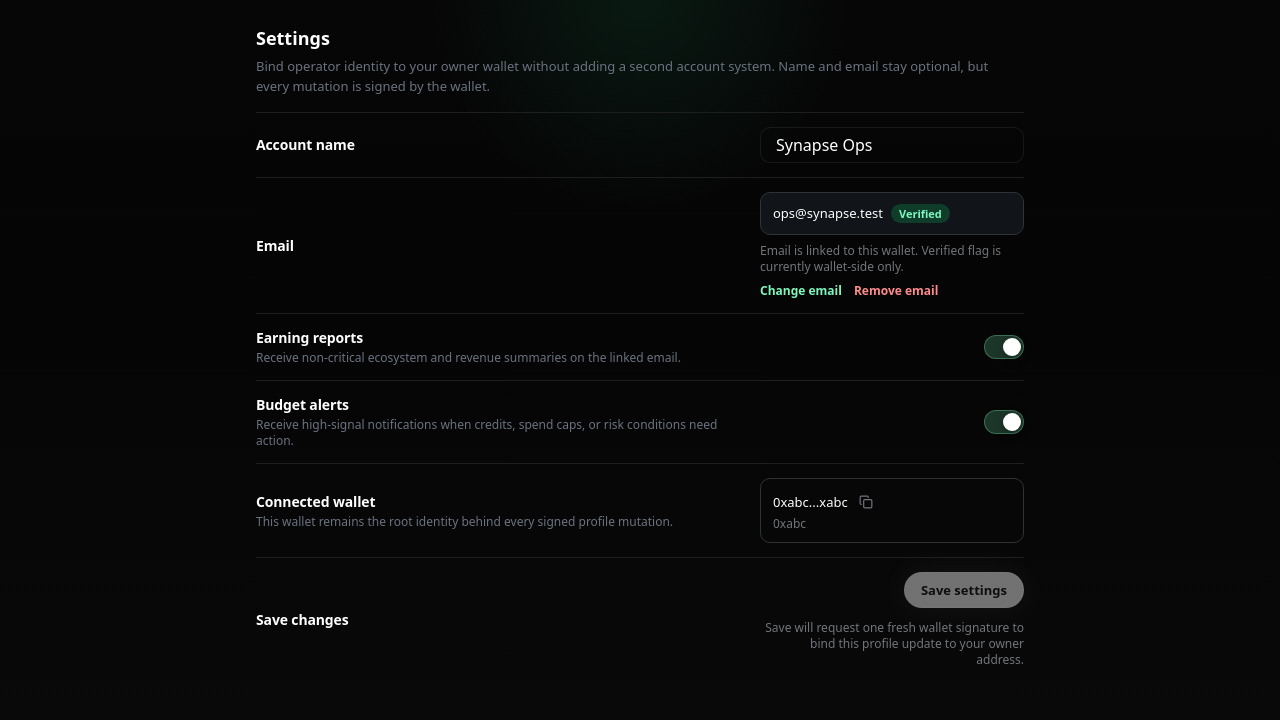
AccountSettingsPage › requests a signed challenge and updates the owner profile
Click the button "Change email" at x=801, y=291, box [760,283,842,299]
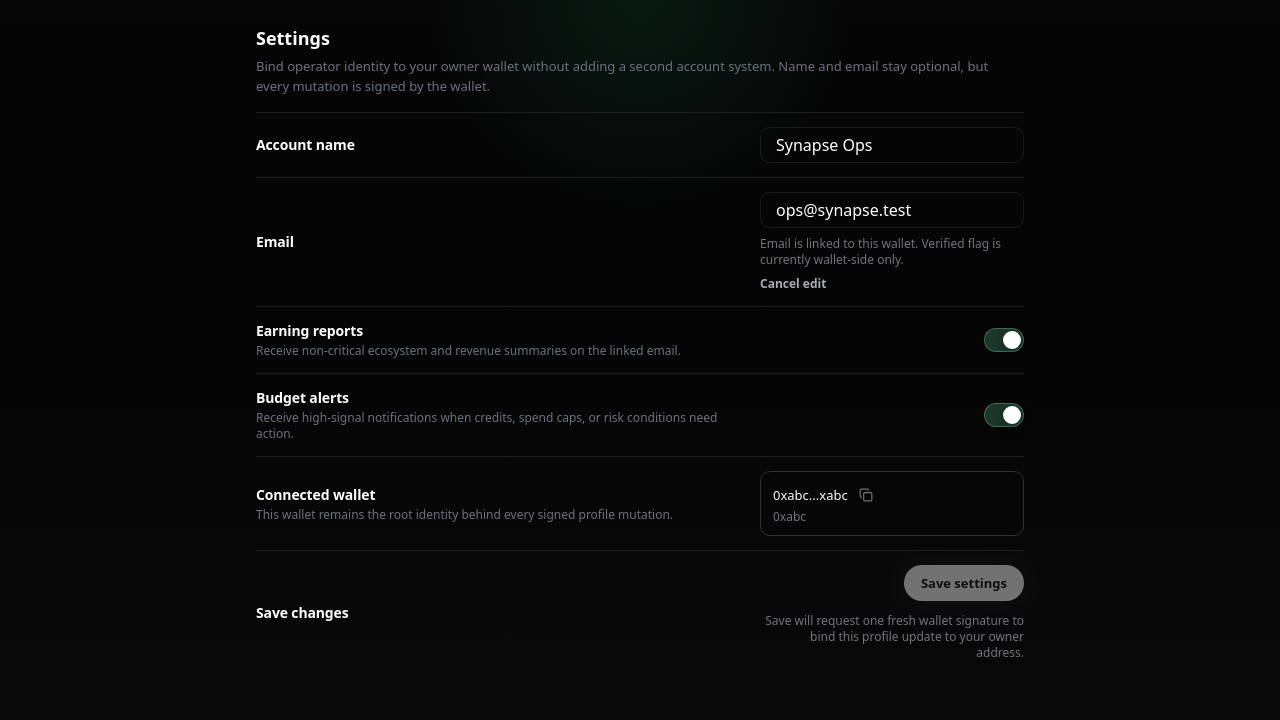
Replace the text in the field named "Account name" in the row of "Account name" with "Synapse Infra" at x=892, y=145, box [760,127,1024,163]
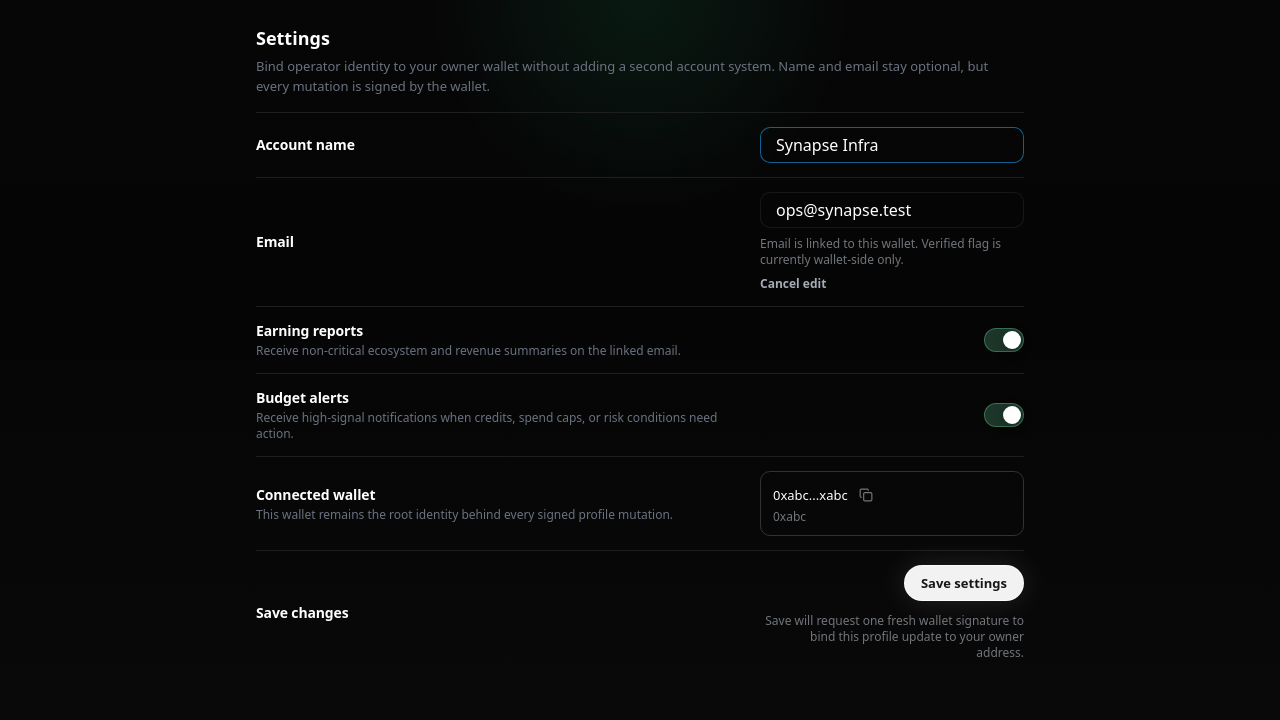
Replace the text in the 2nd field named "Email" with "infra@synapse.test" at x=892, y=210, box [760,192,1024,228]
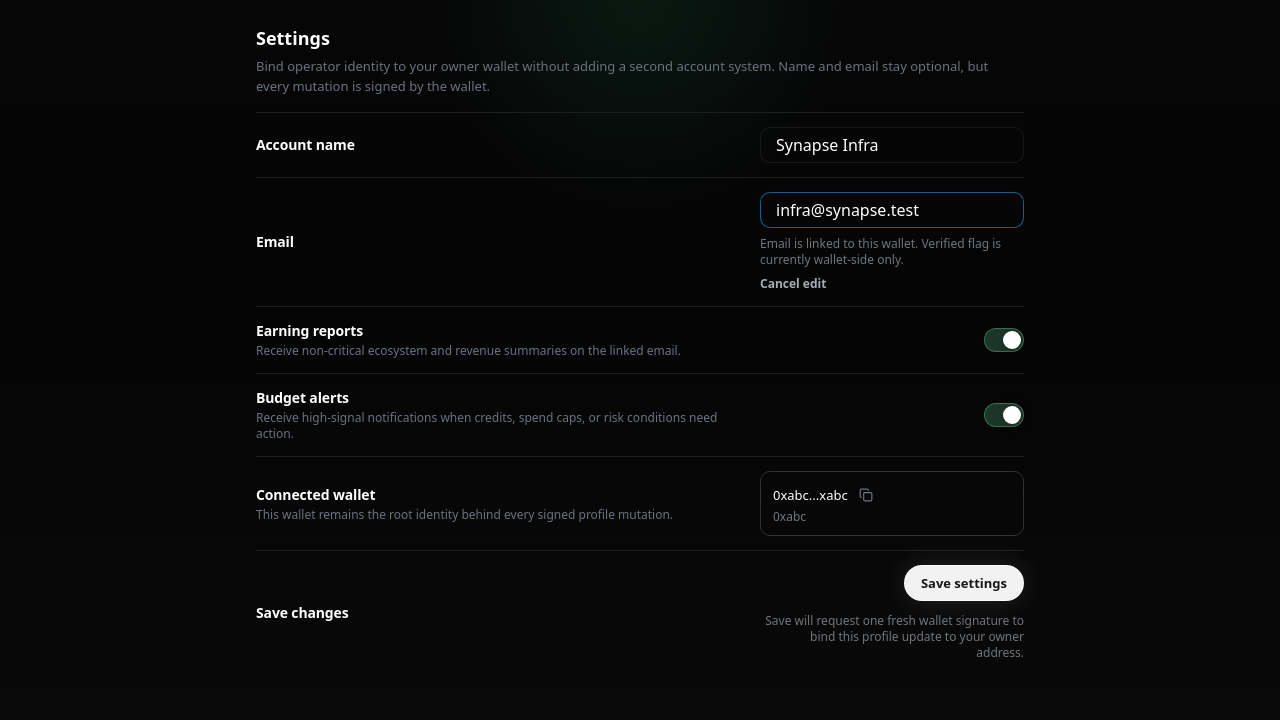
Click the checkbox named "Earning reports" at x=1004, y=340, box [984,328,1024,352]
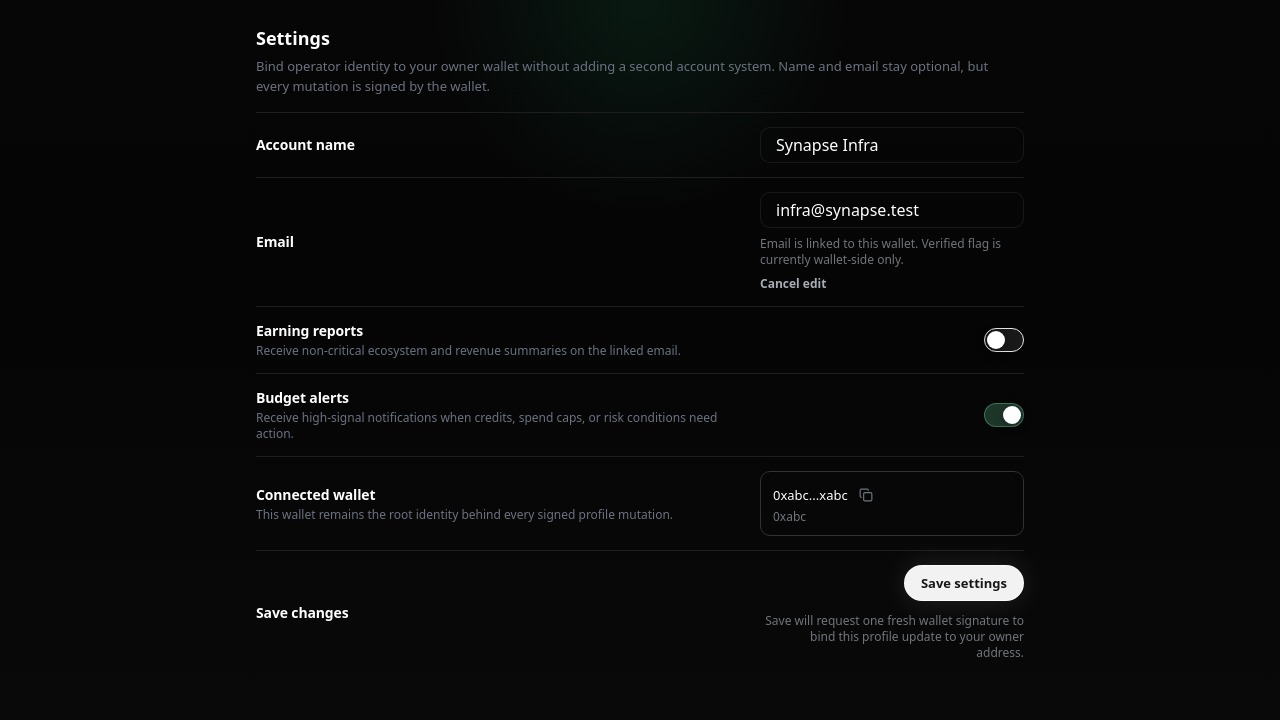
Click the button "Save settings" at x=964, y=583, box [904,565,1024,601]
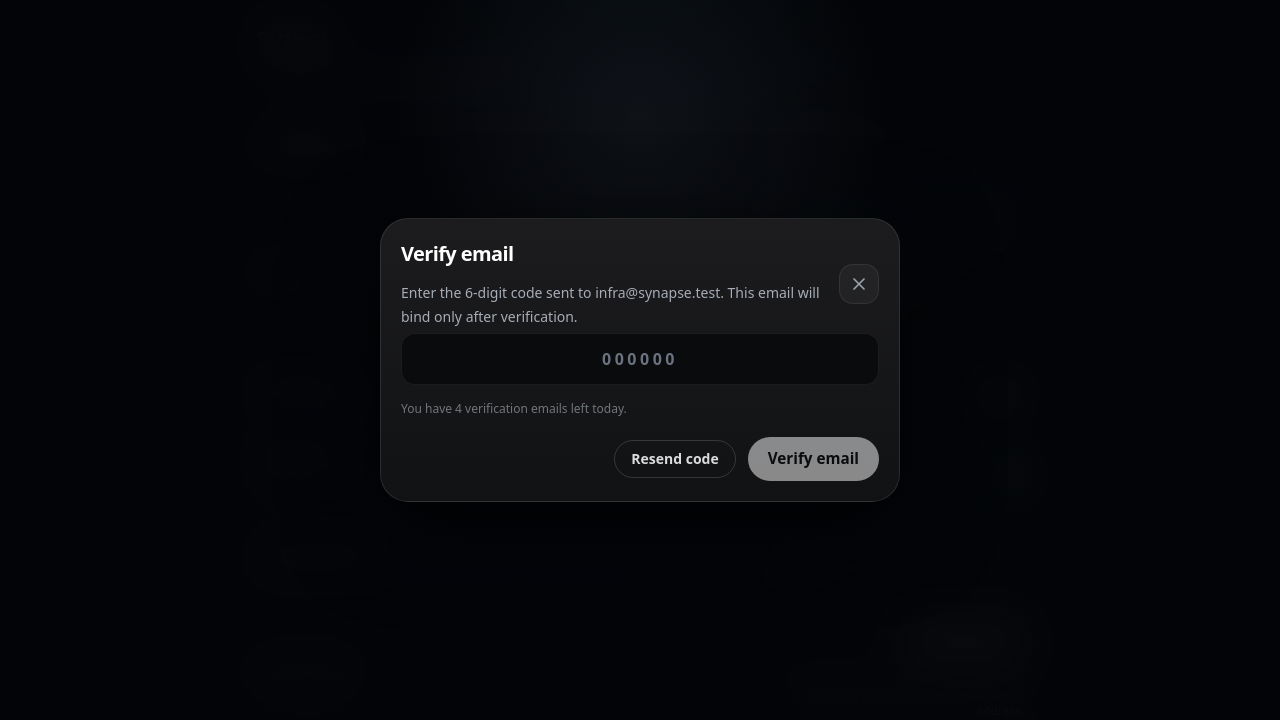
Result: the dialog "Verify email" is shown
Result: the text "You have 4 verification emails left today." is shown at [401,400,627,417]
